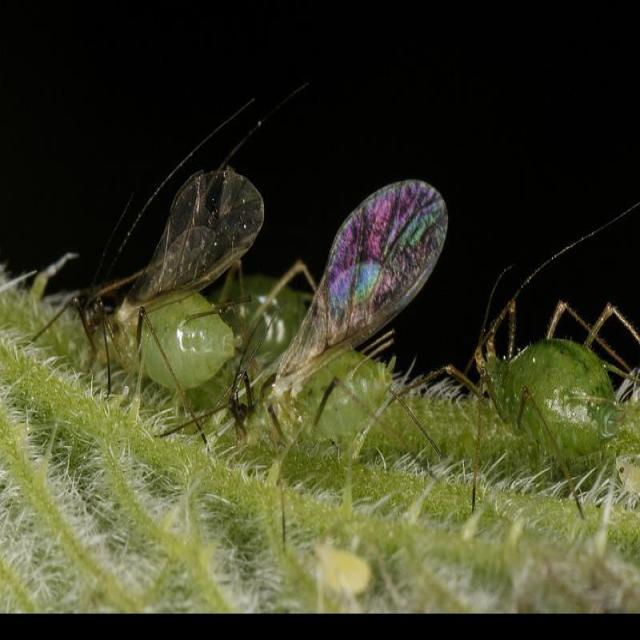aphid: (416, 283, 628, 512), (90, 210, 248, 412)
